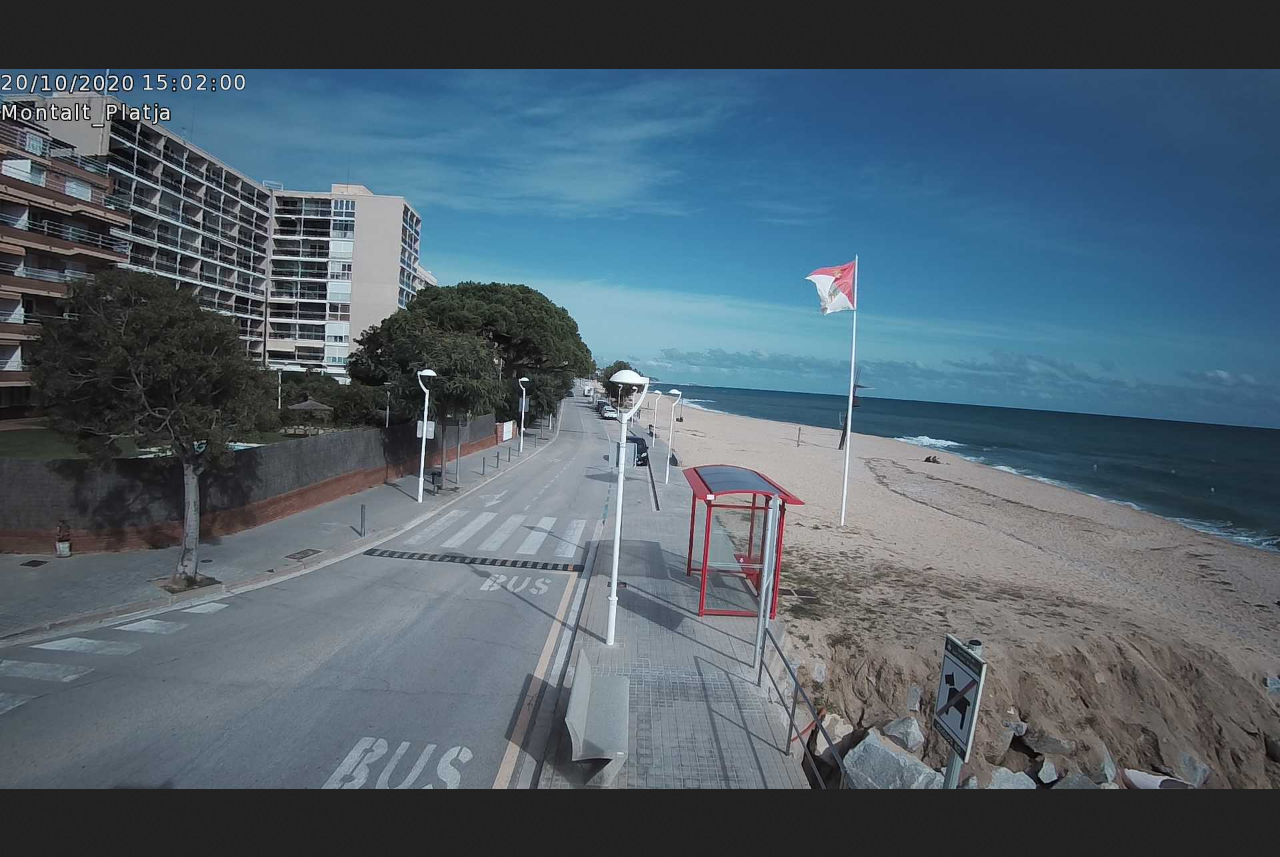yes: (801, 258, 861, 319)
